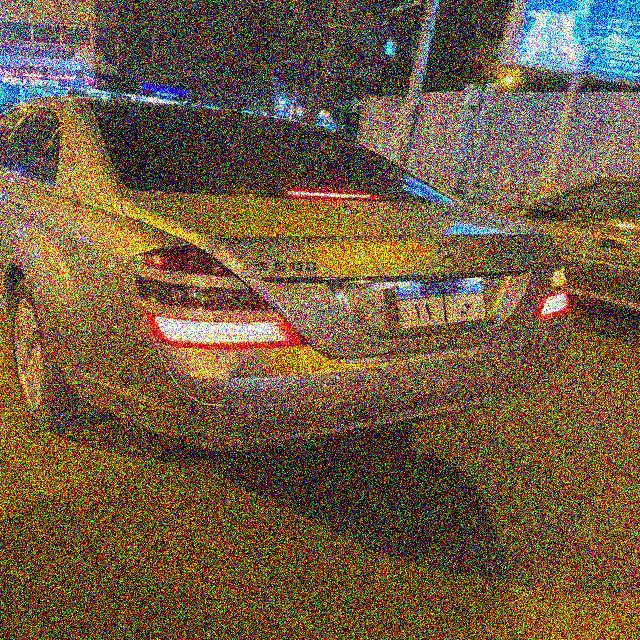License Plate: (391, 275, 489, 331)
